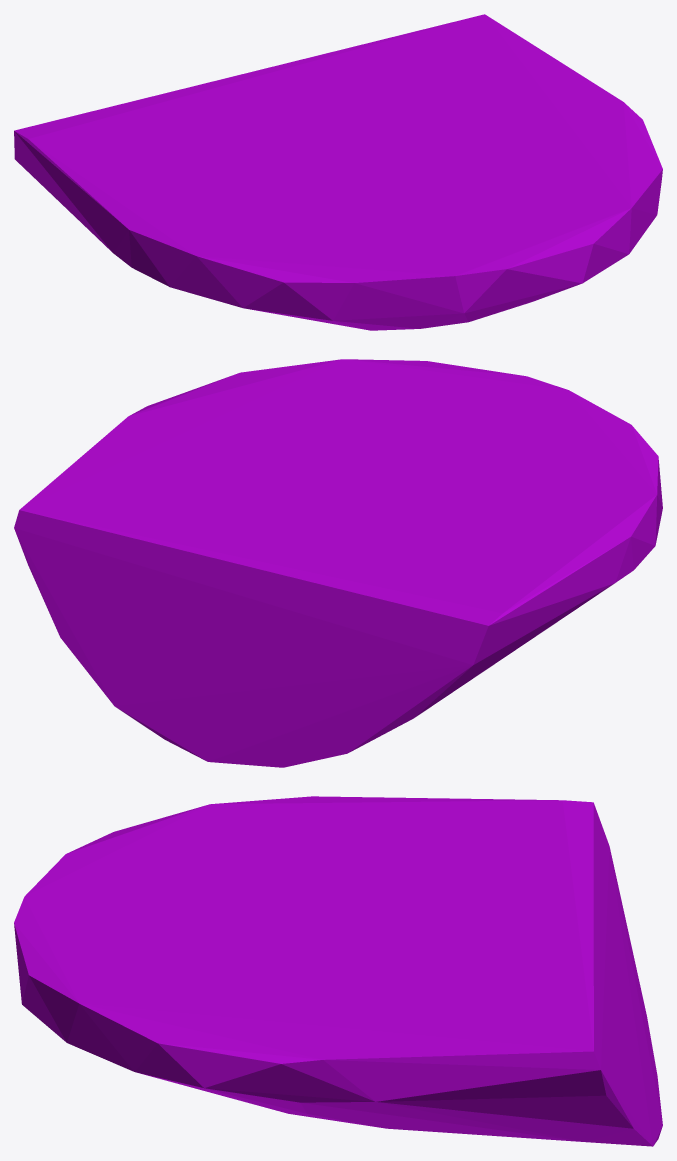
File: arm-L1_convex_piece_001.obj
The picture shows the model from 3 angles, top to bottom: view 1: azimuth 30°, elevation 25°; view 2: azimuth 150°, elevation 25°; view 3: azimuth 270°, elevation 25°; orthographic projection. The views are drawn at different scales.
Bounding box in the file's own units: 0.0741 × 0.025 × 0.0763.
